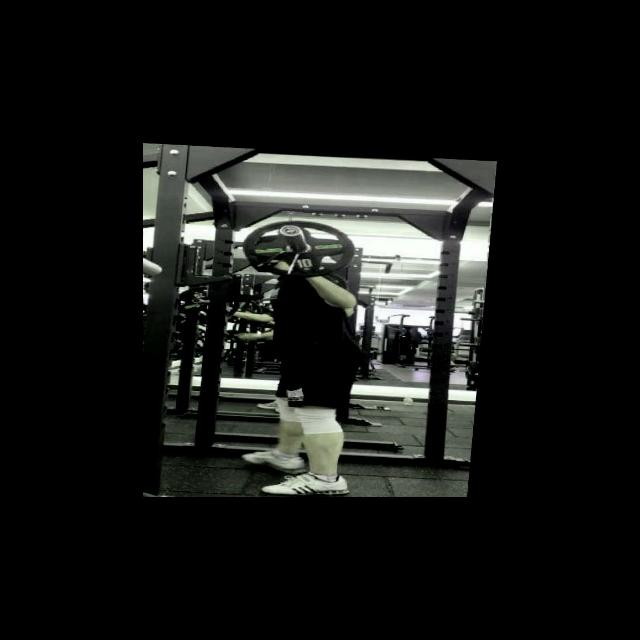barbell: (240, 215, 360, 281)
